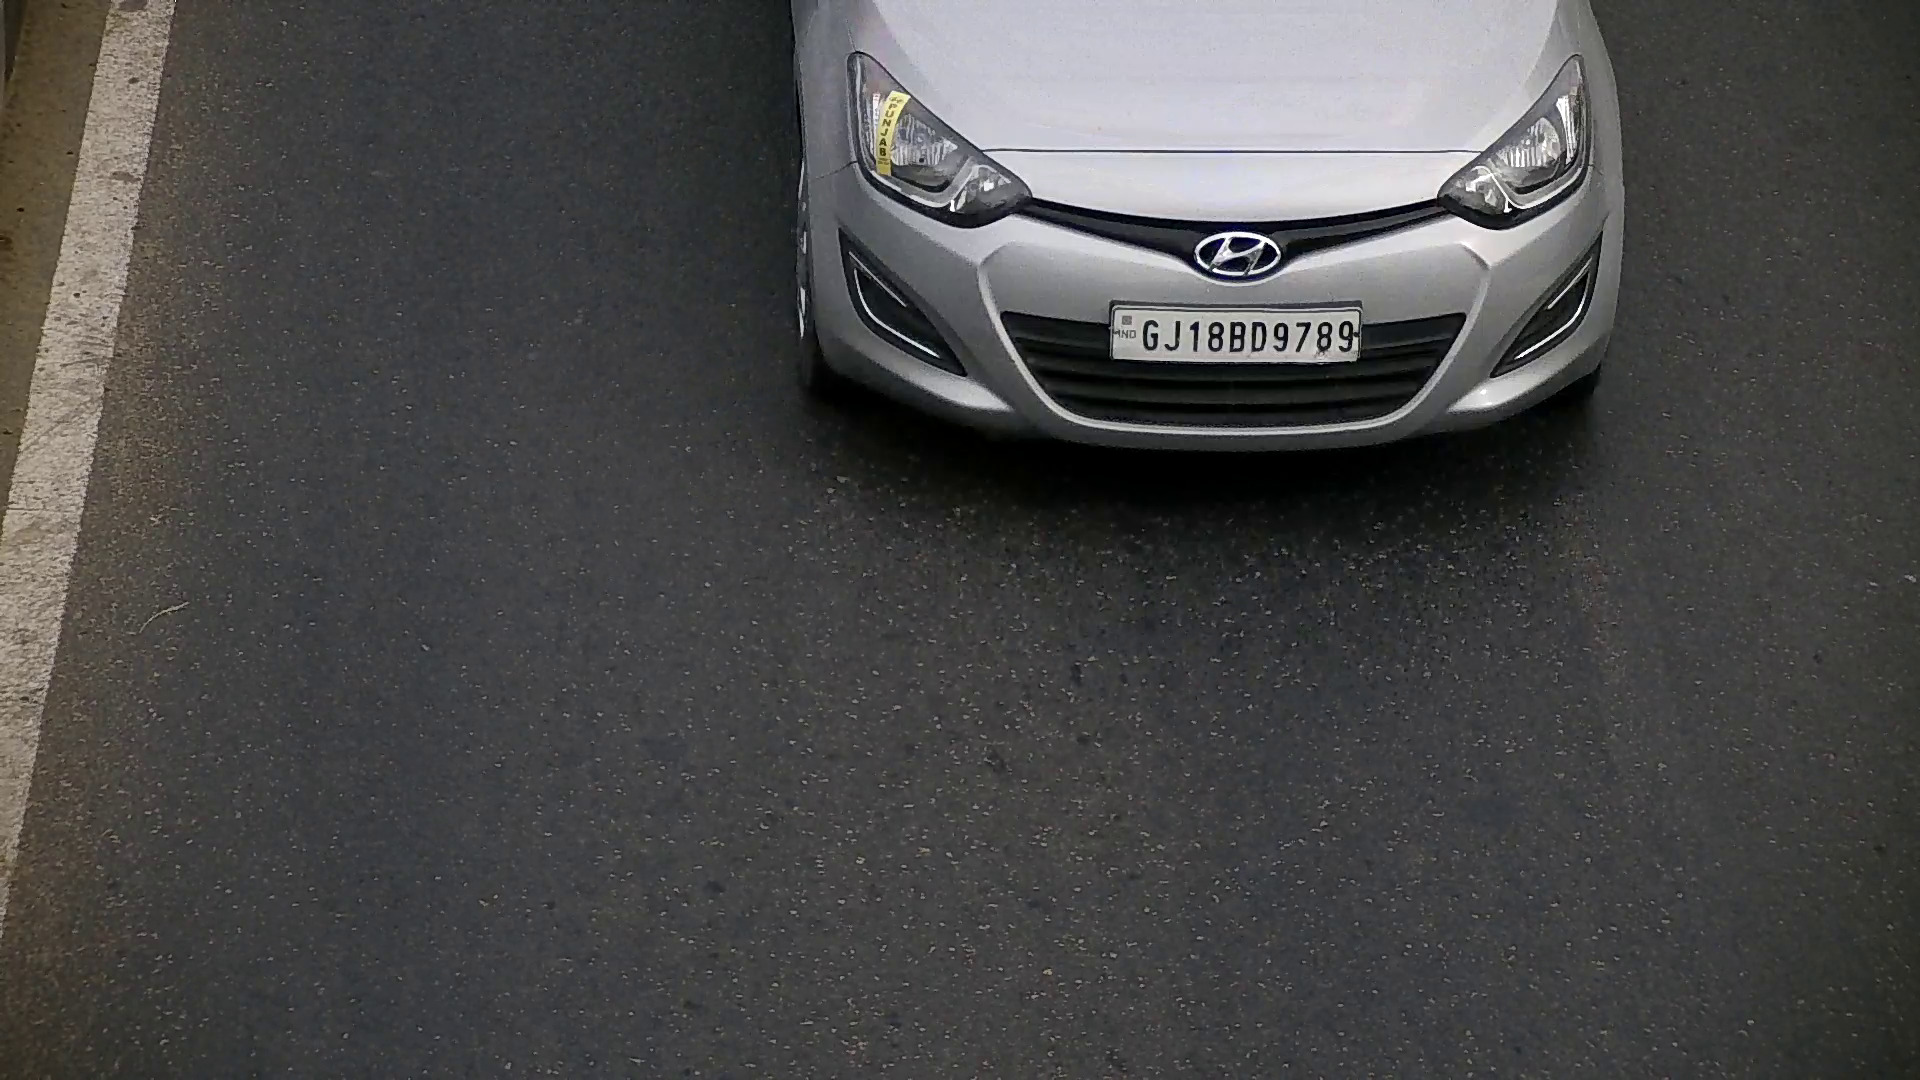numberplate: (1106, 302, 1365, 367)
